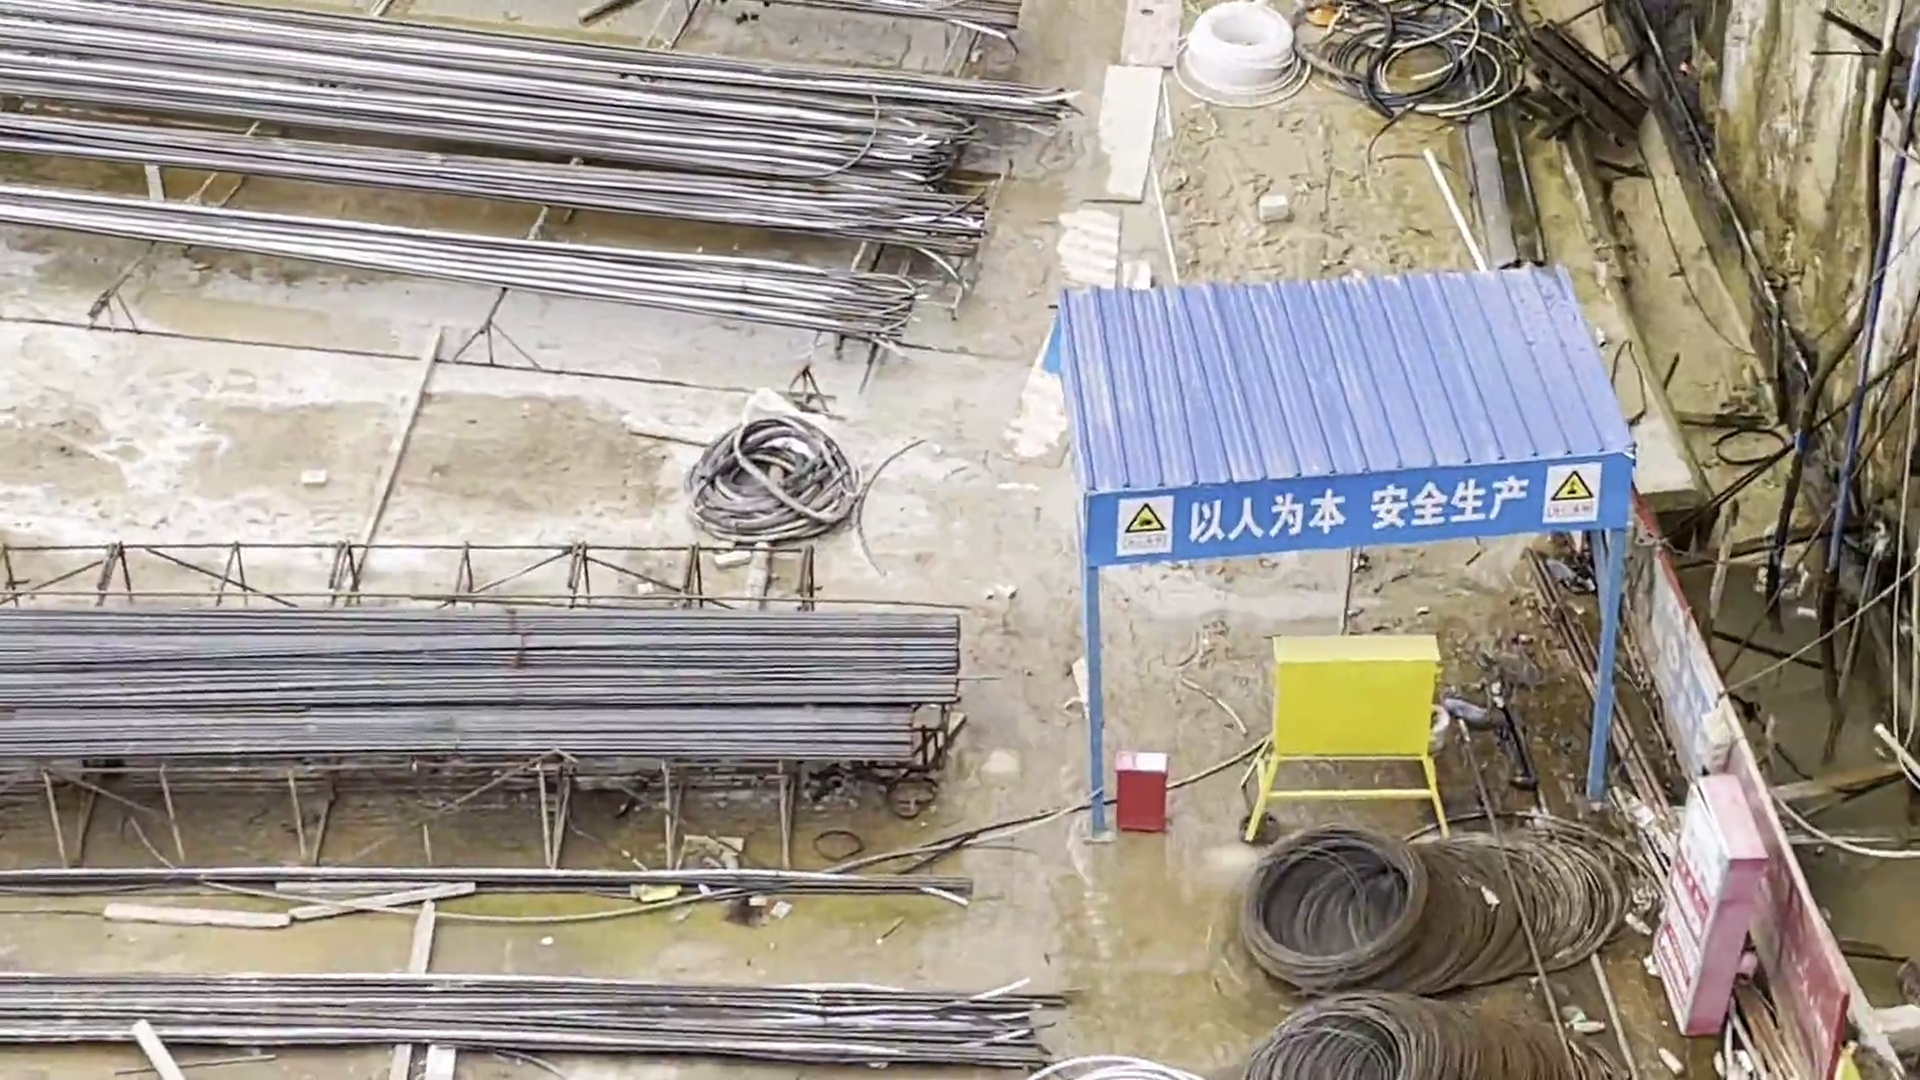ebox: (1251, 622, 1466, 824)
rebar: (3, 1, 920, 355), (11, 580, 981, 789), (1, 928, 1033, 1072)
slogan: (1120, 462, 1623, 551)
